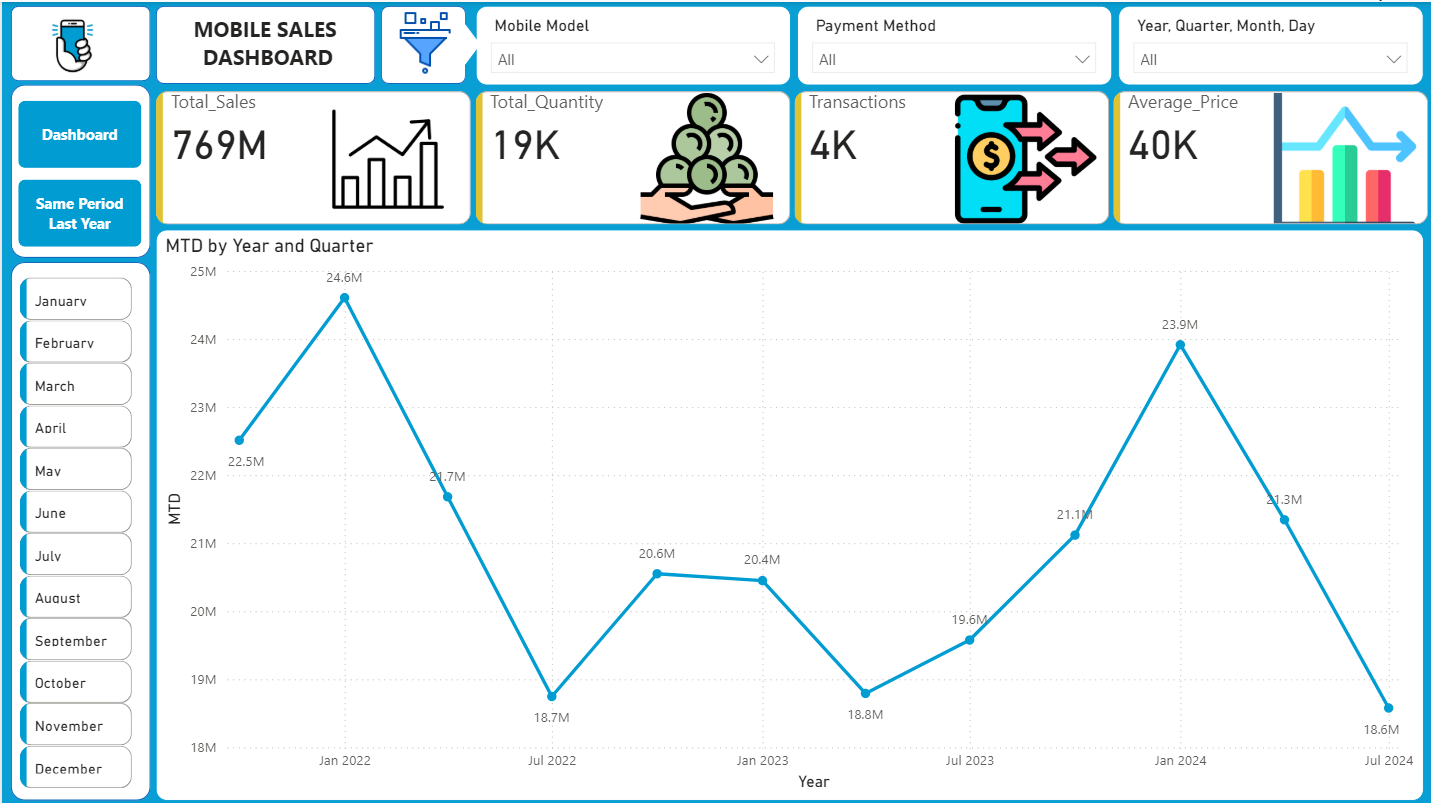

This screenshot's page, from the dashboard's own definition file:
{"tool":"powerbi","page":{"name":"MTD Report","canvas":[1280,720],"ordinal":1},"visuals":[{"type":"shape","box":[7.5,3.8,125,67.5],"z":0},{"type":"image","box":[23.8,3.8,78.8,71.2],"z":1000},{"type":"shape","box":[7.5,73.8,125,155],"z":2000},{"type":"cardVisual","fields":{"Data":["Sales_Data.Total_Sales","Sales_Data.Total_Quantity","Sales_Data.Transactions","Sales_Data.Average_Price"]},"box":[133,74.3,1147,129.4],"z":3000},{"type":"slicer","fields":{"Values":["Sales_Data.Mobile Model"]},"box":[423.8,3.8,281.2,71.2],"z":4000},{"type":"slicer","fields":{"Values":["Sales_Data.Payment Method"]},"box":[710,3.8,281.2,71.2],"z":5000},{"type":"slicer","fields":{"Values":["Custom_Calendar.Date.Variation.Date Hierarchy.Year","Custom_Calendar.Date.Variation.Date Hierarchy.Quarter","Custom_Calendar.Date.Variation.Date Hierarchy.Month","Custom_Calendar.Date.Variation.Date Hierarchy.Day"]},"box":[997.5,3.8,272.5,71.2],"z":6000},{"type":"shape","box":[338.8,3.8,76.2,70],"z":7000},{"type":"image","box":[337.5,3.8,81.2,66.2],"z":8000},{"type":"shape","box":[397.5,17.5,30,40],"z":9000},{"type":"shape","box":[137.5,3.8,196.2,70],"z":10000},{"type":"textbox","box":[156.2,6.2,162.5,63.8],"z":11000},{"type":"lineChart","fields":{"Category":["Custom_Calendar.Date.Variation.Date Hierarchy.Year","Custom_Calendar.Date.Variation.Date Hierarchy.Quarter","Custom_Calendar.Date.Variation.Date Hierarchy.Month","Custom_Calendar.Date.Variation.Date Hierarchy.Day"],"Y":["Sales_Data.MTD"]},"box":[137.8,203.7,1132.6,510.6],"z":12000},{"type":"shape","box":[7.5,232.5,125,481.2],"z":13000},{"type":"advancedSlicerVisual","fields":{"Values":["Custom_Calendar.Date.Variation.Date Hierarchy.Month"]},"box":[11.2,241.2,110,472.5],"z":14000},{"type":"pageNavigator","box":[15,88.8,110,130],"z":15000}]}

Visuals, with their boxes in screenshot pixels (x1, y1, x2, y2), scaled from the page's 1280x720 canvas onto the 1431x803 screenshot:
shape: {"x1": 8, "y1": 4, "x2": 148, "y2": 80}
image: {"x1": 27, "y1": 4, "x2": 115, "y2": 84}
shape: {"x1": 8, "y1": 82, "x2": 148, "y2": 255}
cardVisual - Sales_Data.Total_Sales x Sales_Data.Total_Quantity: {"x1": 149, "y1": 83, "x2": 1430, "y2": 227}
slicer - Sales_Data.Mobile Model: {"x1": 474, "y1": 4, "x2": 788, "y2": 84}
slicer - Sales_Data.Payment Method: {"x1": 794, "y1": 4, "x2": 1108, "y2": 84}
slicer - Custom_Calendar.Date.Variation.Date Hierarchy.Year x Custom_Calendar.Date.Variation.Date Hierarchy.Quarter: {"x1": 1115, "y1": 4, "x2": 1420, "y2": 84}
shape: {"x1": 379, "y1": 4, "x2": 464, "y2": 82}
image: {"x1": 377, "y1": 4, "x2": 468, "y2": 78}
shape: {"x1": 444, "y1": 20, "x2": 478, "y2": 64}
shape: {"x1": 154, "y1": 4, "x2": 373, "y2": 82}
textbox: {"x1": 175, "y1": 7, "x2": 356, "y2": 78}
lineChart - Custom_Calendar.Date.Variation.Date Hierarchy.Year x Custom_Calendar.Date.Variation.Date Hierarchy.Quarter: {"x1": 154, "y1": 227, "x2": 1420, "y2": 797}
shape: {"x1": 8, "y1": 259, "x2": 148, "y2": 796}
advancedSlicerVisual - Custom_Calendar.Date.Variation.Date Hierarchy.Month: {"x1": 13, "y1": 269, "x2": 135, "y2": 796}
pageNavigator: {"x1": 17, "y1": 99, "x2": 140, "y2": 244}
